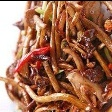chashugu: (3, 0, 112, 112)
